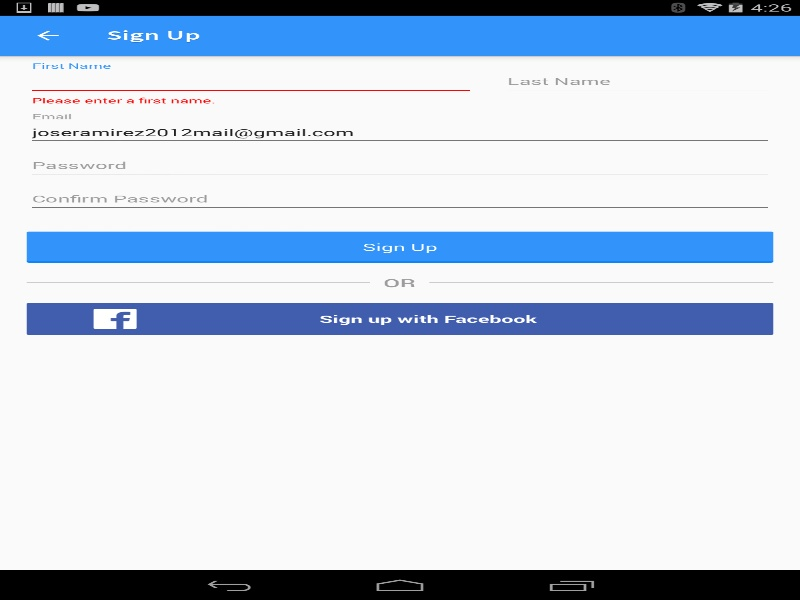Button: (26, 302, 773, 335), (26, 231, 773, 262), (10, 15, 85, 55)
Input: (26, 152, 773, 179), (26, 119, 773, 145), (26, 186, 773, 212), (26, 68, 475, 95), (501, 68, 773, 95)
